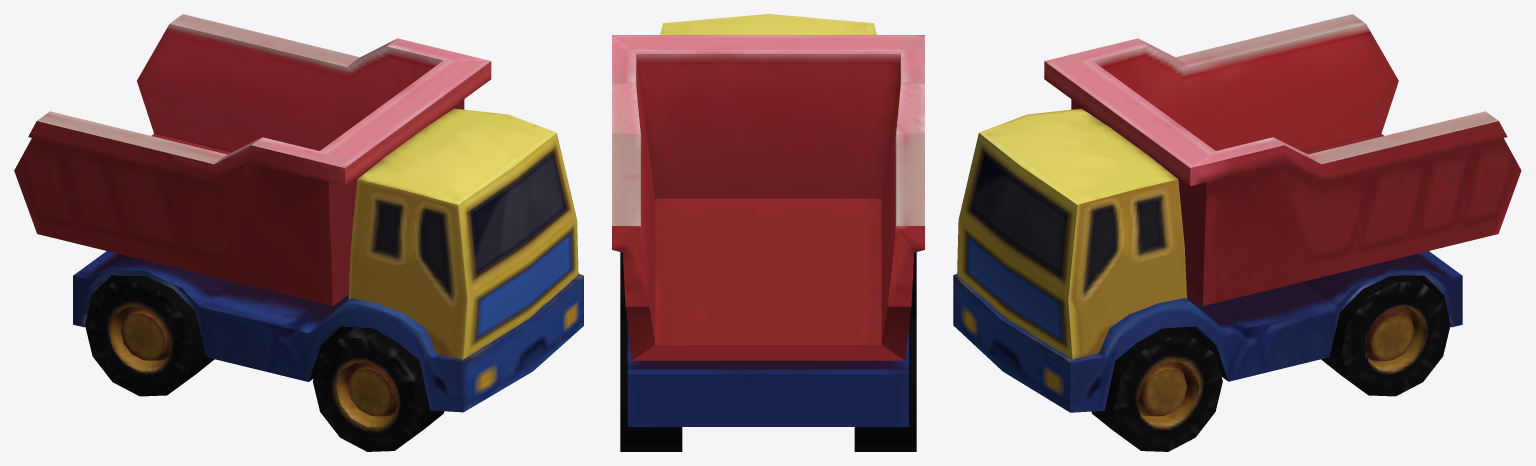
The model's file is SiWangPenQuan_01_wanjuche_01.FBX.
The picture shows the model from 3 angles, left to right: view 1: azimuth 30°, elevation 25°; view 2: azimuth 150°, elevation 25°; view 3: azimuth 270°, elevation 25°; orthographic projection. The views are drawn at different scales.
Visible parts, largest first — view 1: SiWangPenQuan_01_wanjuche_01; view 2: SiWangPenQuan_01_wanjuche_01; view 3: SiWangPenQuan_01_wanjuche_01.
Part boxes in pixels (x1,y1,x2,y2): SiWangPenQuan_01_wanjuche_01: [14, 14, 583, 451]; SiWangPenQuan_01_wanjuche_01: [612, 14, 924, 451]; SiWangPenQuan_01_wanjuche_01: [953, 14, 1521, 451].
Bounding box in the file's own units: 218 × 143 × 261.
